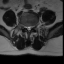CCS_normal: (27, 22, 30, 33)
LFS_normal: (31, 23, 34, 30)
LLS_normal: (30, 23, 31, 31)
RFS_normal: (23, 22, 26, 30)
RLS_normal: (26, 23, 27, 31)
